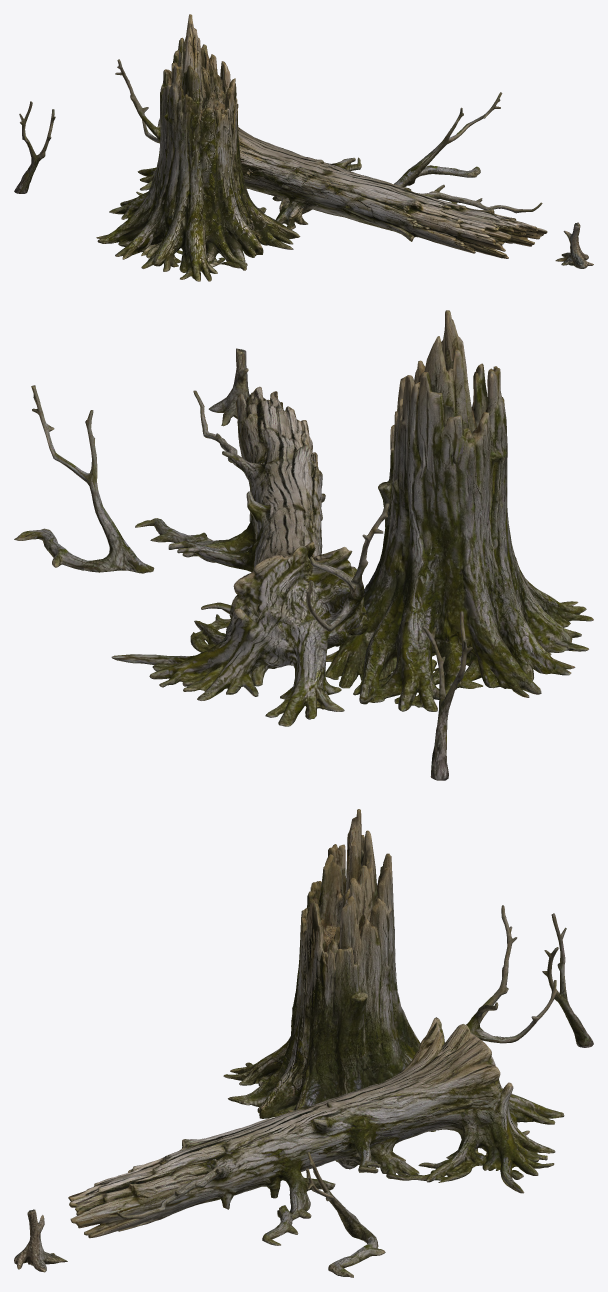
File: tree_remnant.glb
3 renders of one model, top to bottom at view 1: azimuth 30°, elevation 25°; view 2: azimuth 150°, elevation 25°; view 3: azimuth 270°, elevation 25°, orthographic. The views are drawn at different scales.
Parts seen in each view (by area): view 1: tree_remnant; view 2: tree_remnant; view 3: tree_remnant.
Part boxes in pixels (box(x1,y1,x2,y2)): tree_remnant: box(14, 14, 593, 281); tree_remnant: box(14, 310, 593, 780); tree_remnant: box(14, 809, 593, 1277).
Bounding box in the file's own units: 189 × 104 × 190.
1 material, 1 textured.
